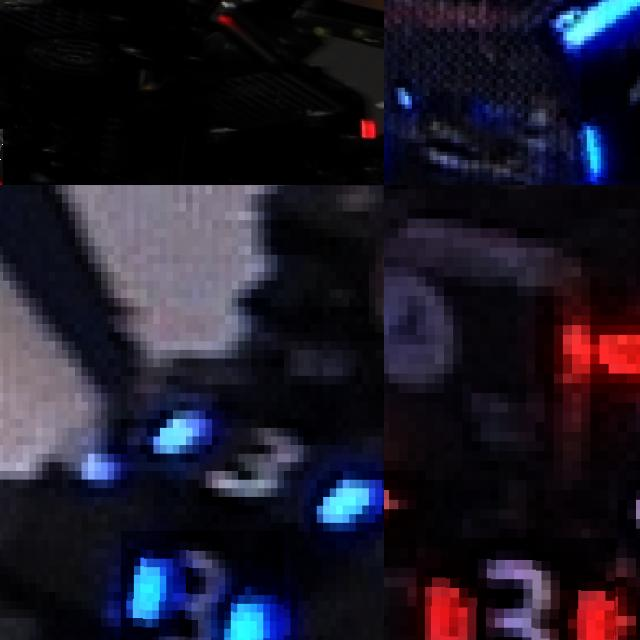B1: (581, 48, 640, 181)
B3: (120, 531, 284, 640)
R3: (425, 538, 617, 640)
